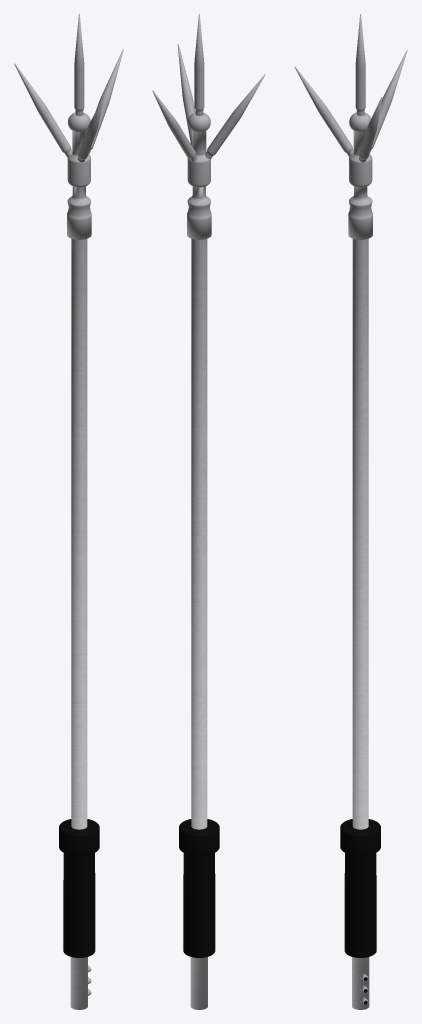
3 views of the same model, side by side, from view 1: azimuth 90°, elevation 25°; view 2: azimuth 150°, elevation 25°; view 3: azimuth 330°, elevation 25° (orthographic).
Parts seen in each view (by area): view 1: Cylinder.010, Cylinder.005; view 2: Cylinder.010, Cylinder.005; view 3: Cylinder.010, Cylinder.005.
Part boxes in pixels (bbox=[...]): Cylinder.010: bbox=[59, 239, 99, 1009]; Cylinder.005: bbox=[14, 14, 123, 239]; Cylinder.010: bbox=[179, 239, 219, 1009]; Cylinder.005: bbox=[152, 14, 265, 239]; Cylinder.010: bbox=[340, 239, 380, 1009]; Cylinder.005: bbox=[294, 14, 407, 239].
Bounding box in the file's own units: 0.1183 × 1.15 × 0.1153.
Materials: 3 (1 with a texture image).
